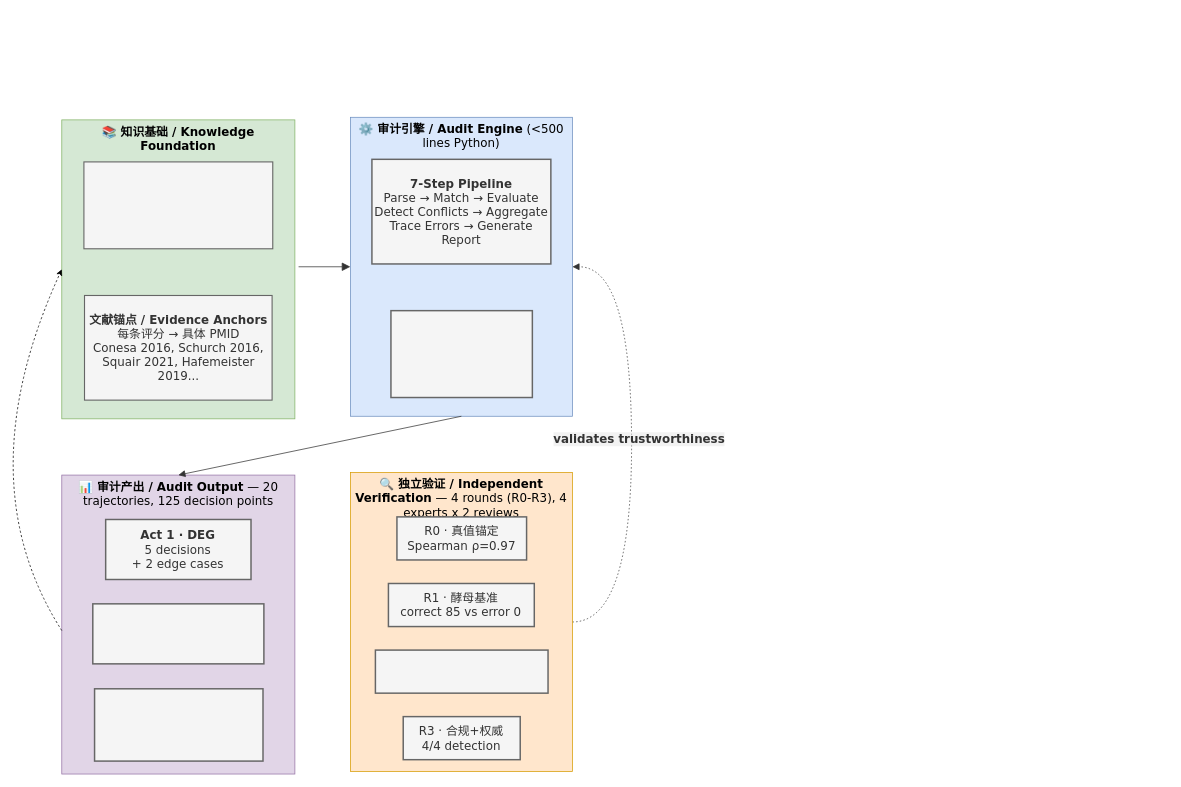
This 1181x787 diagram has some shape labels left out. Each missing label, with the centre of its shape:
4-Level Scoring L1 决策级 · L2 流程级 L3 结论级 · L4 一致性级: the point at 461,354
44 条 YAML 规则 DEG 5 + PanCancer 16 + scRNA 22 独立演化, 加规则不改代码: the point at 178,205
Act 2 · PanCancer 16 decisions + L3/L4 + 4 edges: the point at 178,633
Act 3 · scRNA 12-23 decisions + CellVoyager real + 3 TME types: the point at 178,724
R2 · 跨基因 CSTB/TP53/CD274 零差异: the point at 461,671
